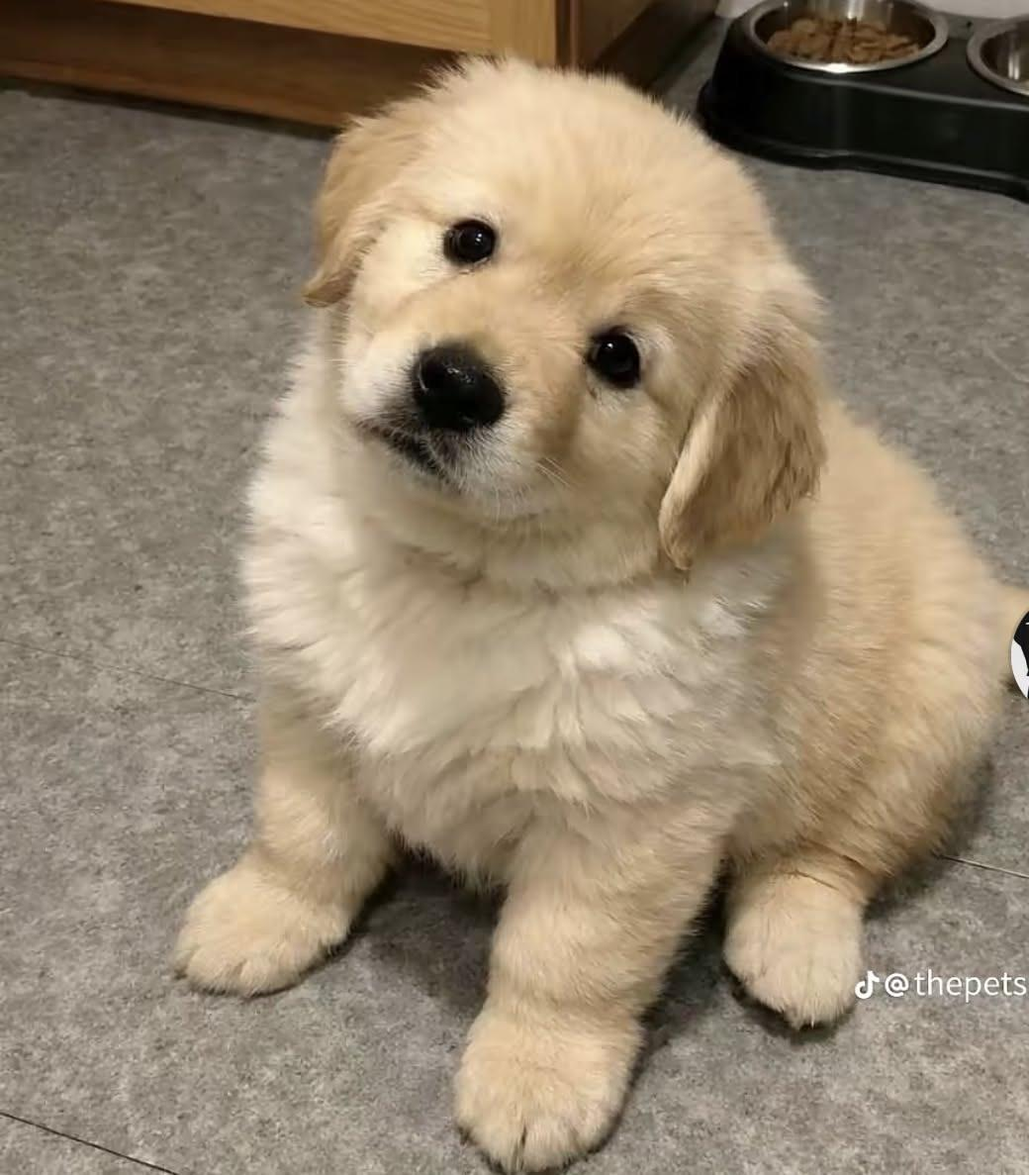puppy-dog: (165, 49, 1028, 1175)
